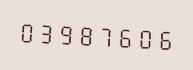eight: (77, 19, 96, 49)
nine: (57, 17, 76, 48)
seven: (97, 20, 116, 51)
six: (117, 21, 136, 52), (157, 23, 176, 54)
three: (37, 16, 56, 47)
zero: (17, 15, 36, 46), (137, 22, 156, 53)
